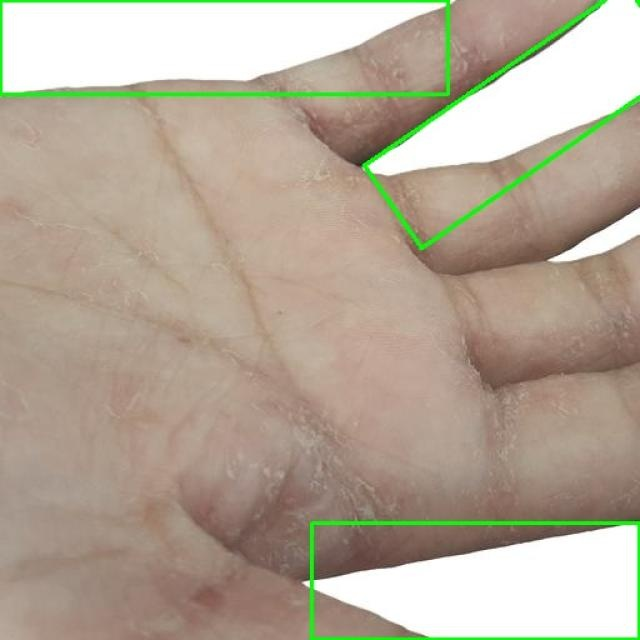Scabies: (365, 0, 640, 248), (0, 0, 448, 94), (311, 522, 639, 639)
